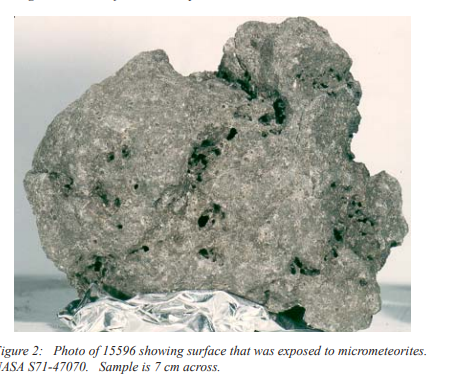Basalt: (43, 66, 373, 303)
